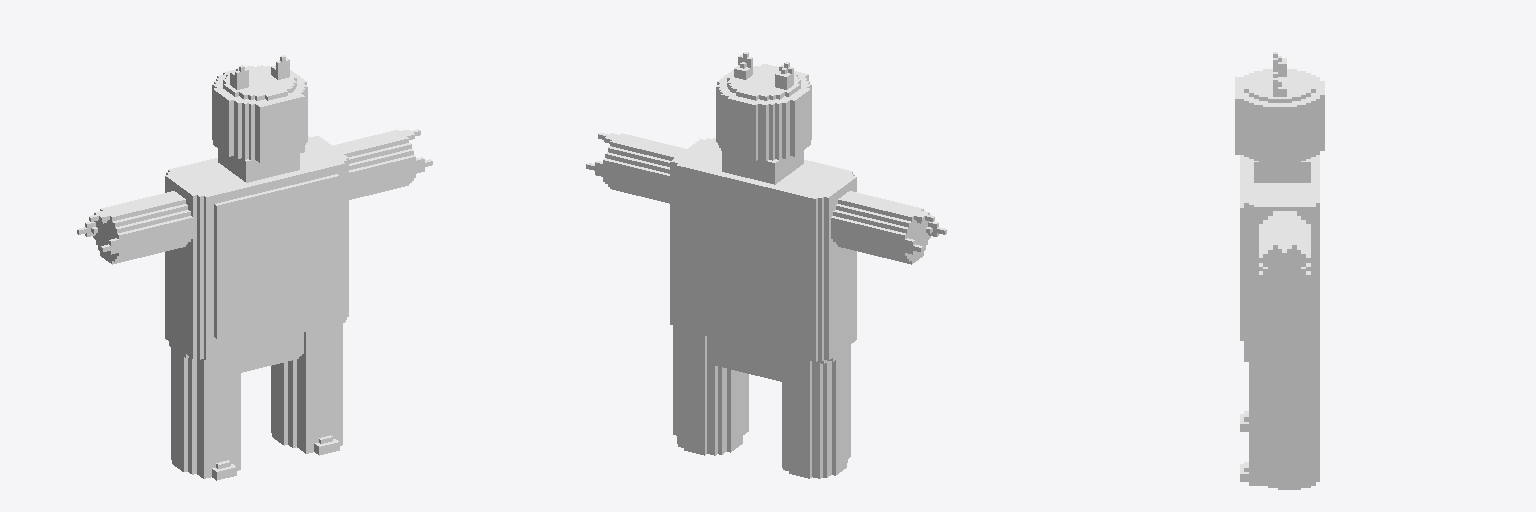
The model's file is char_orso.obj.
3 renders of one model, left to right at view 1: azimuth 30°, elevation 25°; view 2: azimuth 150°, elevation 25°; view 3: azimuth 270°, elevation 25°, orthographic.
Bounding box in the file's own units: 81 × 91 × 19.